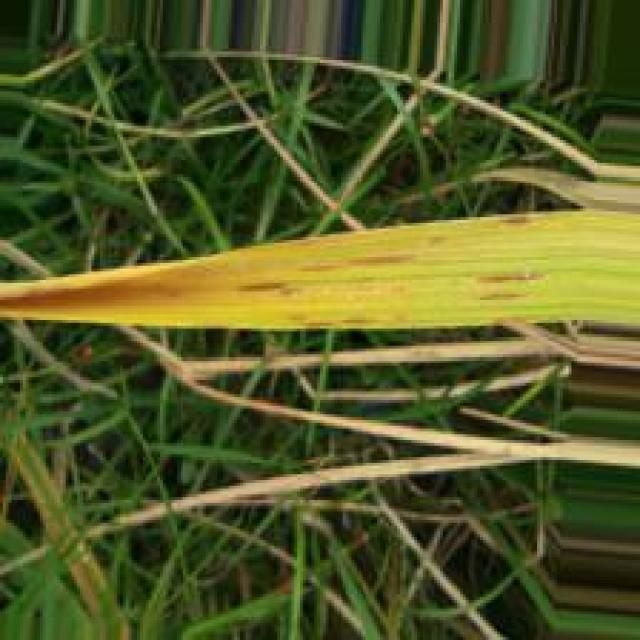Narrow_Brown_Leaf_Spot: (4, 250, 426, 313), (477, 273, 542, 290)
